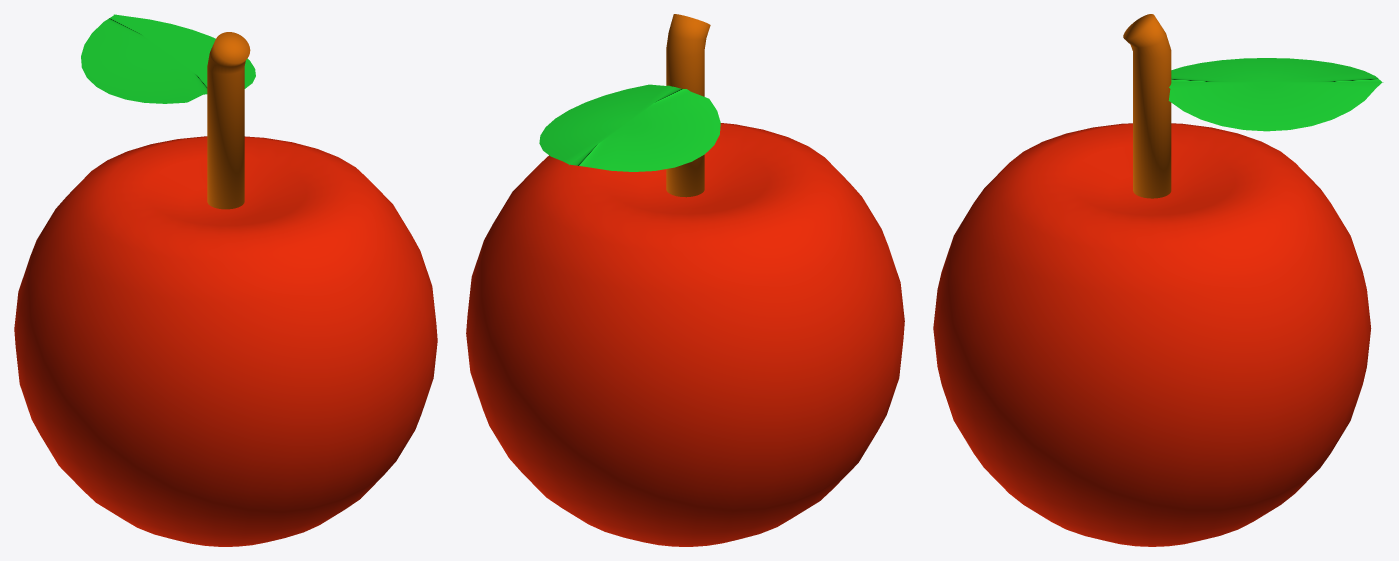
Rendered from ringo.fbx.
The picture shows the model from 3 angles, left to right: view 1: azimuth 30°, elevation 25°; view 2: azimuth 150°, elevation 25°; view 3: azimuth 270°, elevation 25°; orthographic projection. The views are drawn at different scales.
Parts seen in each view (by area): view 1: Sphere, Cylinder_001, Cylinder; view 2: Sphere, Cylinder_001, Cylinder; view 3: Sphere, Cylinder_001, Cylinder.
Boxes of the visible parts, bbox=[...] form: Sphere: bbox=[14, 136, 437, 546]; Cylinder_001: bbox=[81, 14, 255, 103]; Cylinder: bbox=[207, 32, 250, 209]; Sphere: bbox=[466, 123, 904, 546]; Cylinder_001: bbox=[539, 84, 720, 171]; Cylinder: bbox=[666, 14, 710, 197]; Sphere: bbox=[933, 123, 1371, 546]; Cylinder_001: bbox=[1168, 58, 1383, 131]; Cylinder: bbox=[1123, 14, 1171, 198].
Bounding box in the file's own units: 2 × 2.57 × 2.06.
